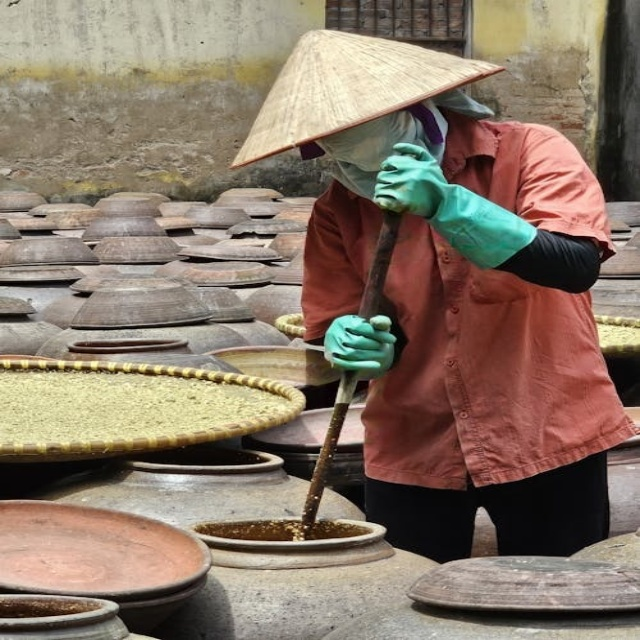Guantes: (374, 140, 536, 273), (321, 308, 398, 375)
Mascara: (311, 105, 420, 177)
